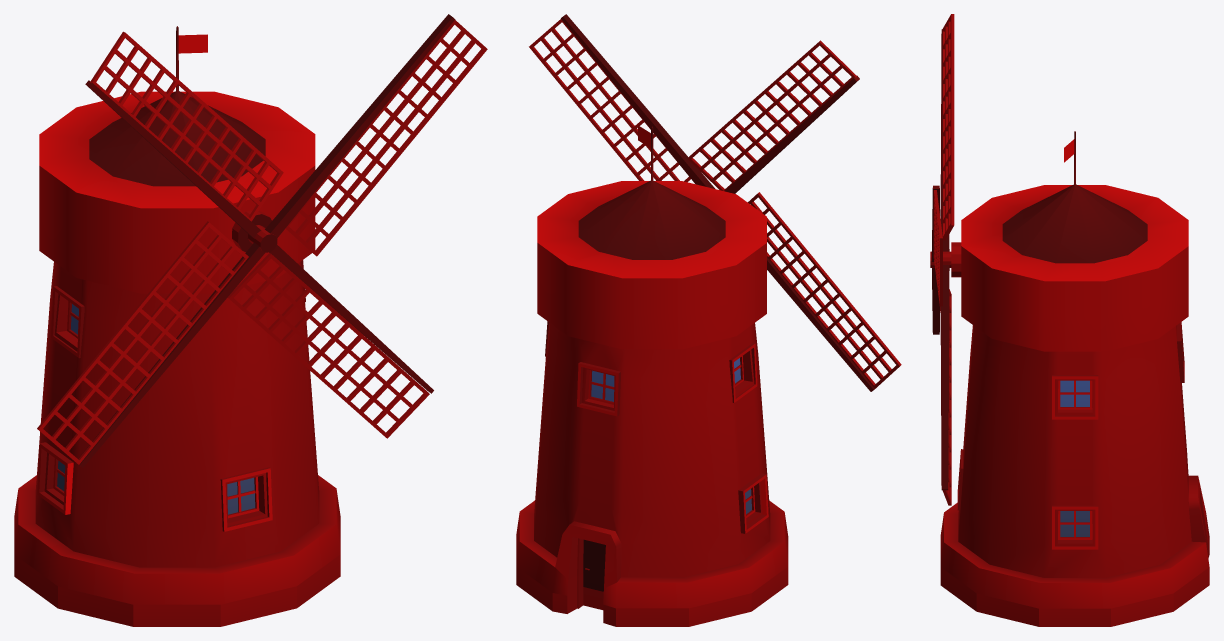
The model's file is buildings-farm-windmill_v1.fbx.
3 renders of one model, left to right at view 1: azimuth 30°, elevation 25°; view 2: azimuth 150°, elevation 25°; view 3: azimuth 270°, elevation 25°, orthographic. The views are drawn at different scales.
Visible parts, largest first — view 1: Windmill_base, Windmill_propeller, Windmill_windowRefl; view 2: Windmill_base, Windmill_propeller, Windmill_windowRefl; view 3: Windmill_base, Windmill_propeller, Windmill_windowRefl.
Part boxes in pixels (x1,y1,x2,y2): Windmill_base: (14,26,340,626); Windmill_propeller: (37,14,487,467); Windmill_windowRefl: (57,304,255,514); Windmill_base: (516,126,788,626); Windmill_propeller: (529,14,901,391); Windmill_windowRefl: (591,358,751,514); Windmill_base: (930,131,1209,626); Windmill_propeller: (931,14,954,505); Windmill_windowRefl: (1060,380,1089,536).
Bounding box in the file's own units: 17.27 × 22.54 × 11.29.
